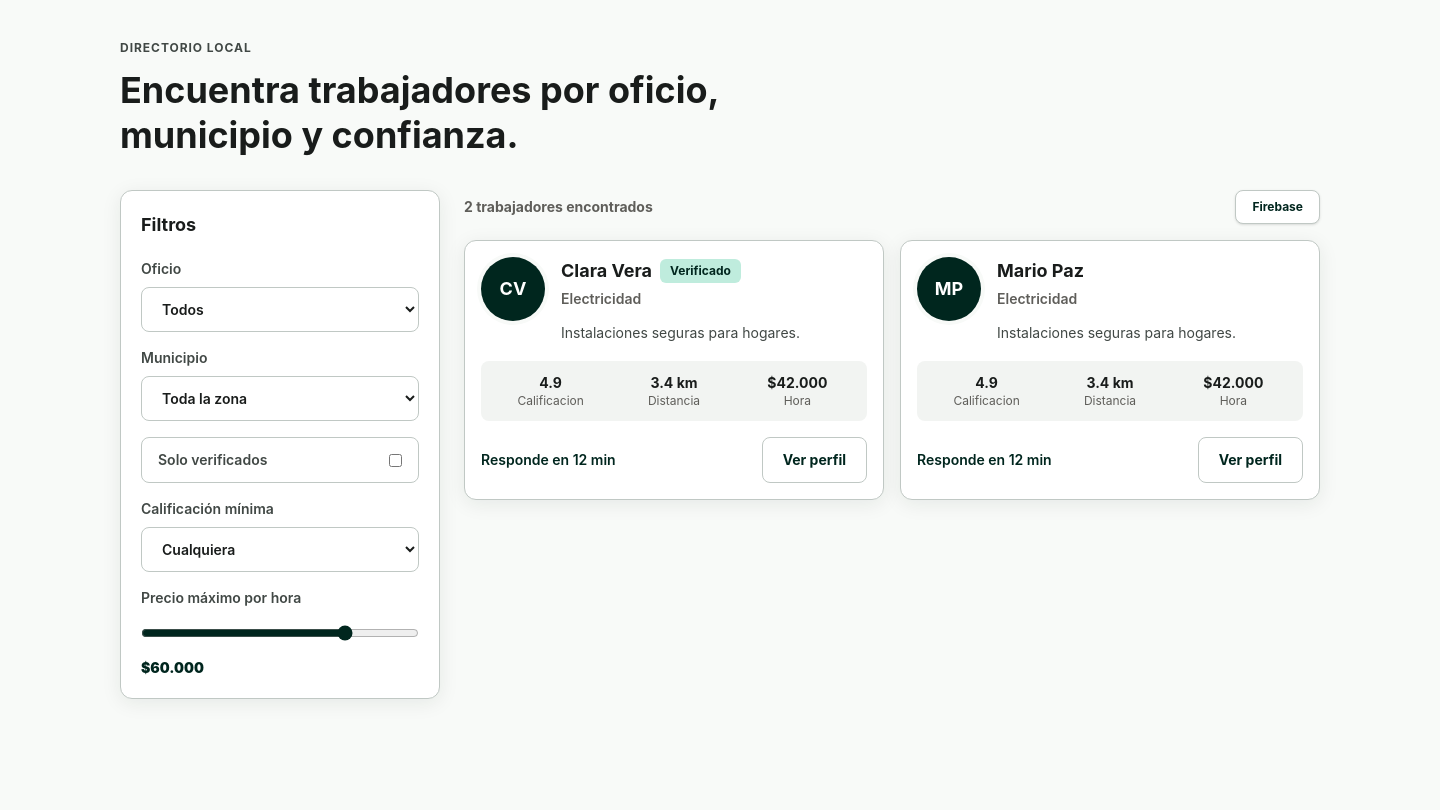
Test case: SearchDirectory › hides unverified workers when the verified-only filter is enabled
Check: the heading "Clara Vera" is shown, box 561,257 -> 652,285
Check: the heading "Mario Paz" is shown, box 997,257 -> 1084,285
Click the checkbox labelled "Solo verificados": click(396, 460) 389,454 -> 402,466
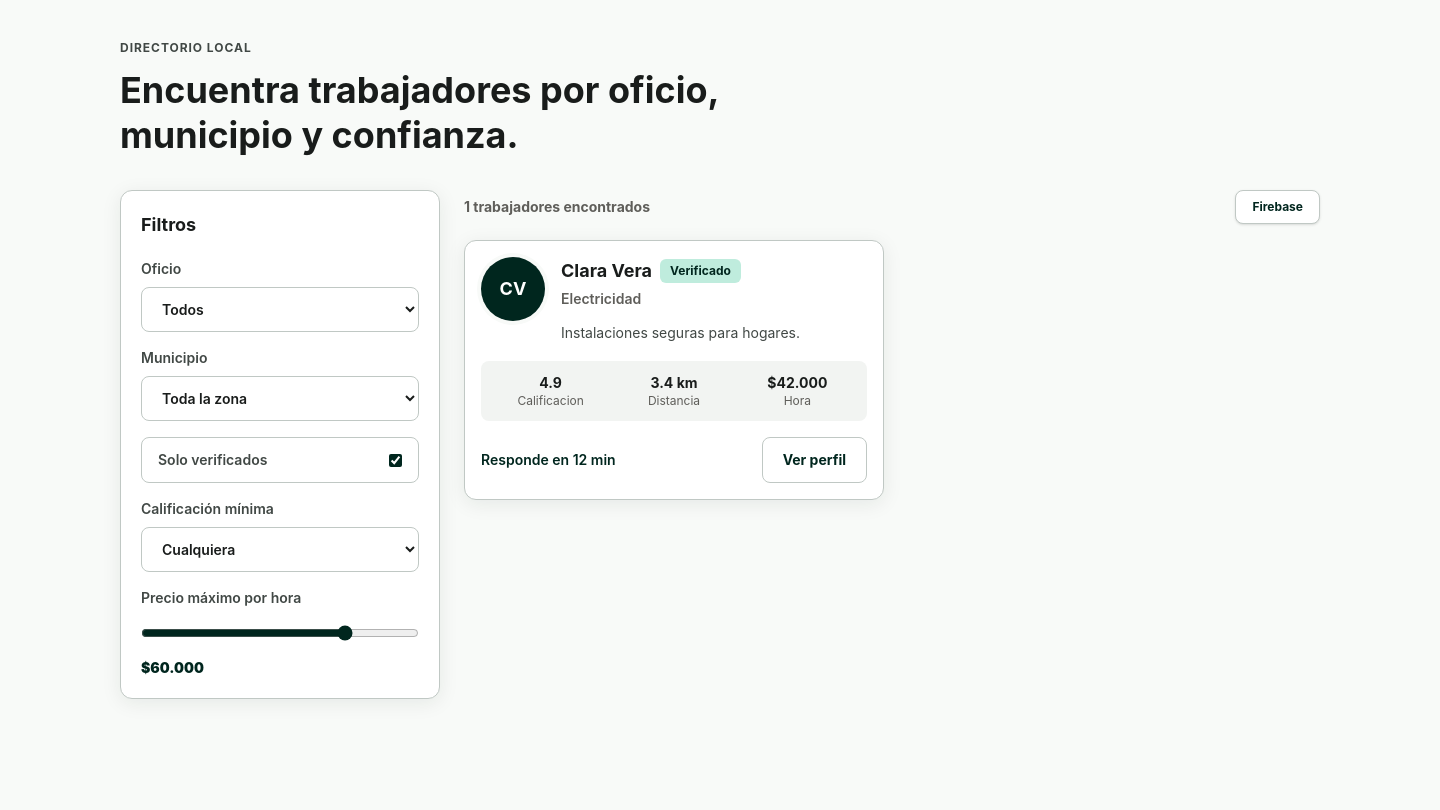
Check: the heading "Clara Vera" is shown, box 561,257 -> 652,285
Check: the heading "Mario Paz" is gone
